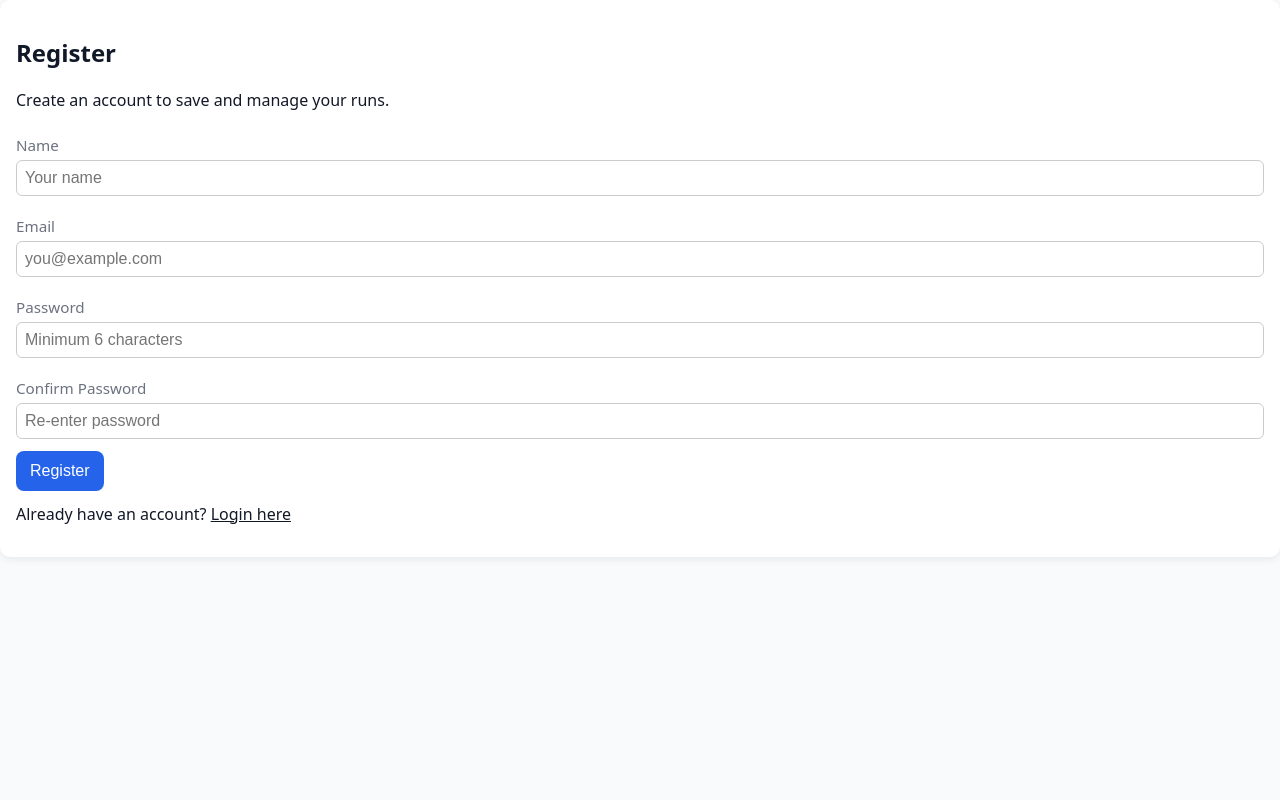
it: RegisterPage › shows error when passwords do not match
Type "Danniel" into the field labelled "Name" at x=640, y=178, box [16,160,1264,196]
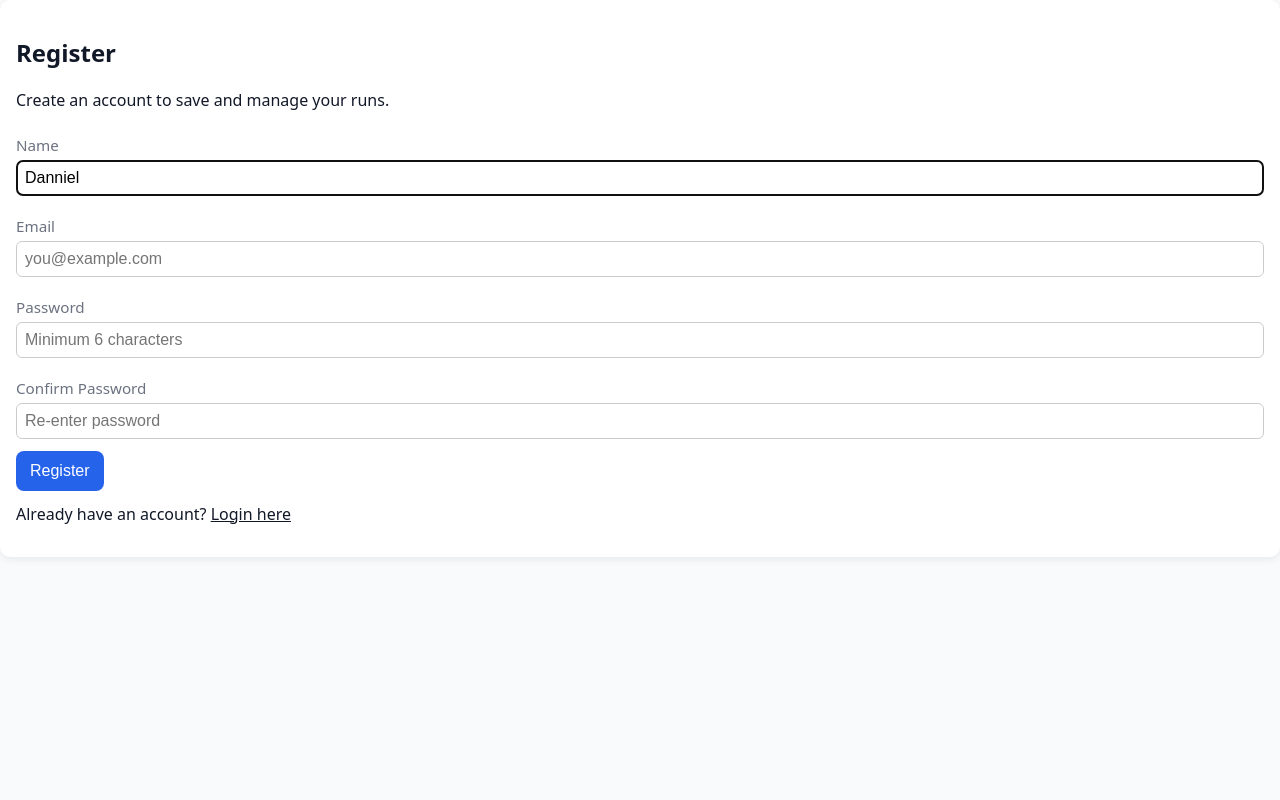
Type "test@example.com" into the field labelled "Email" at x=640, y=259, box [16,241,1264,277]
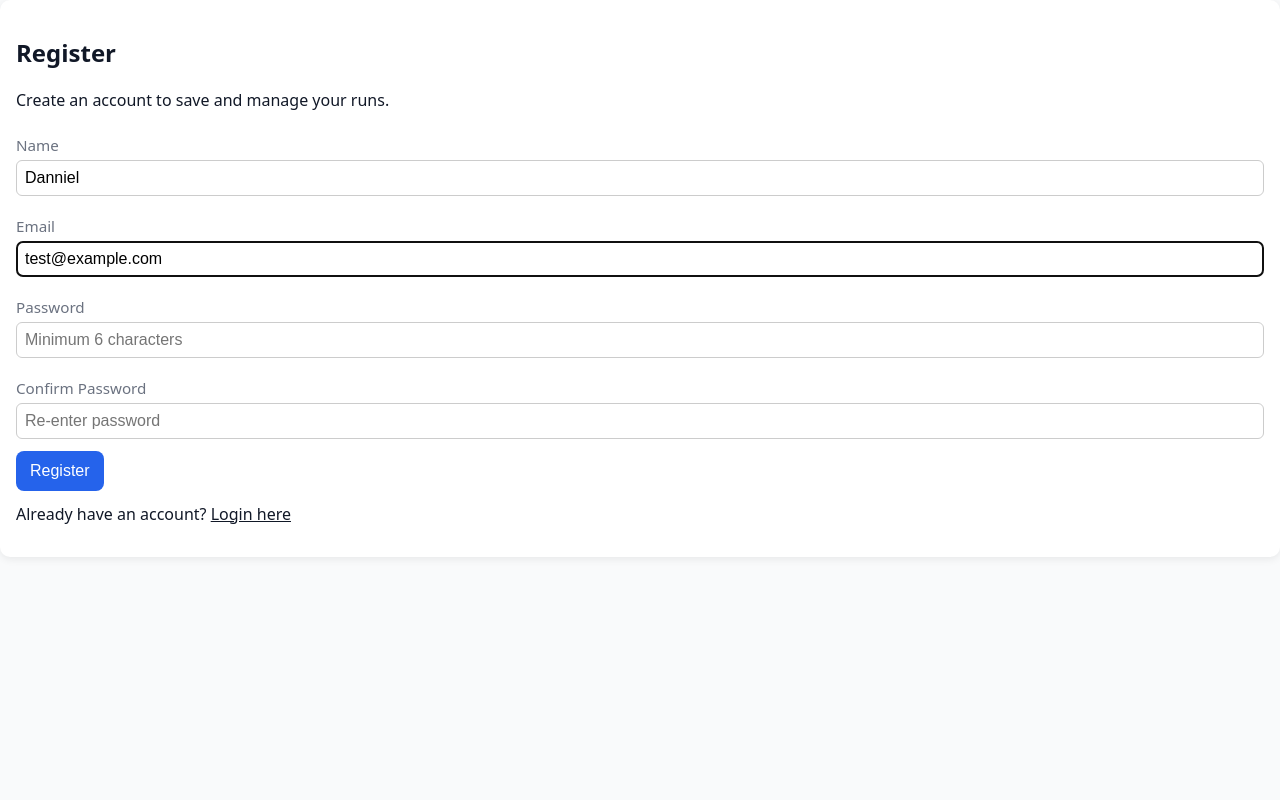
Type "secret123" into the password field labelled "Password" at x=640, y=340, box [16,322,1264,358]
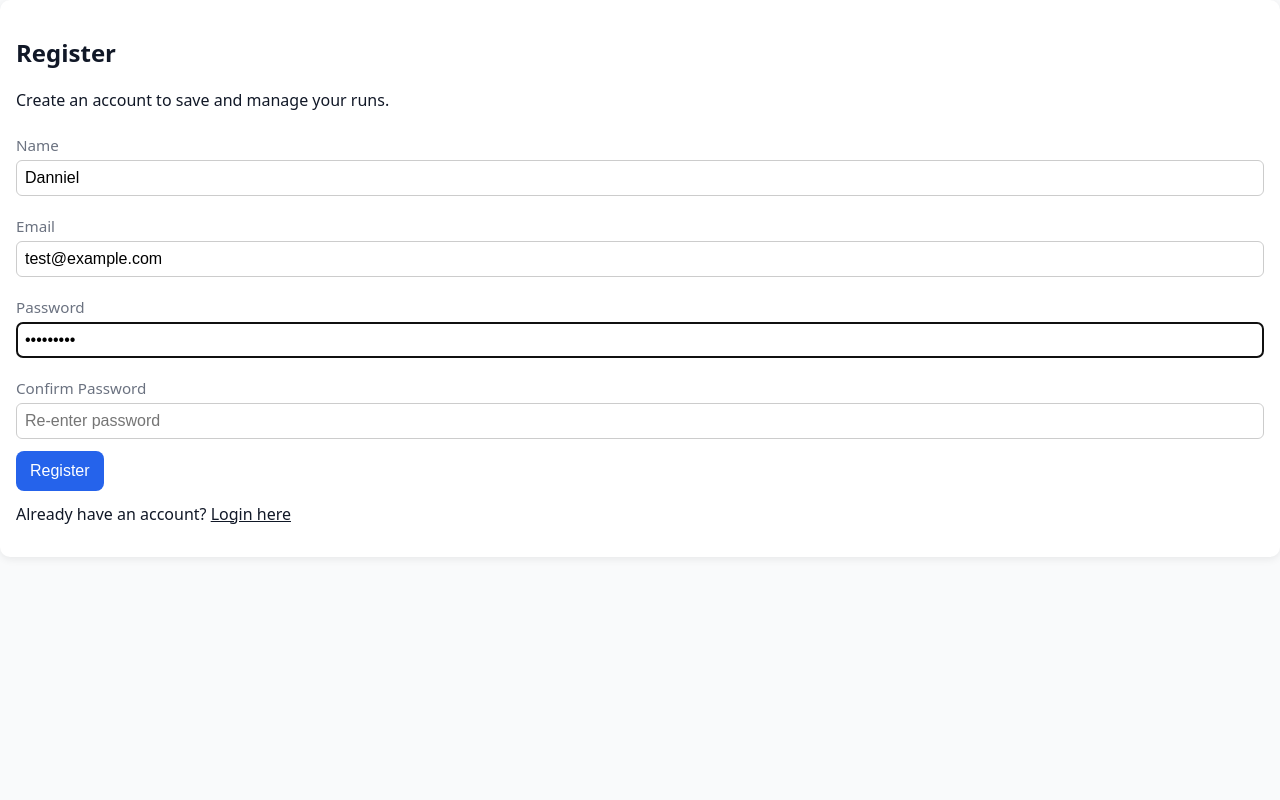
Type "different123" into the password field labelled "Confirm Password" at x=640, y=421, box [16,403,1264,439]
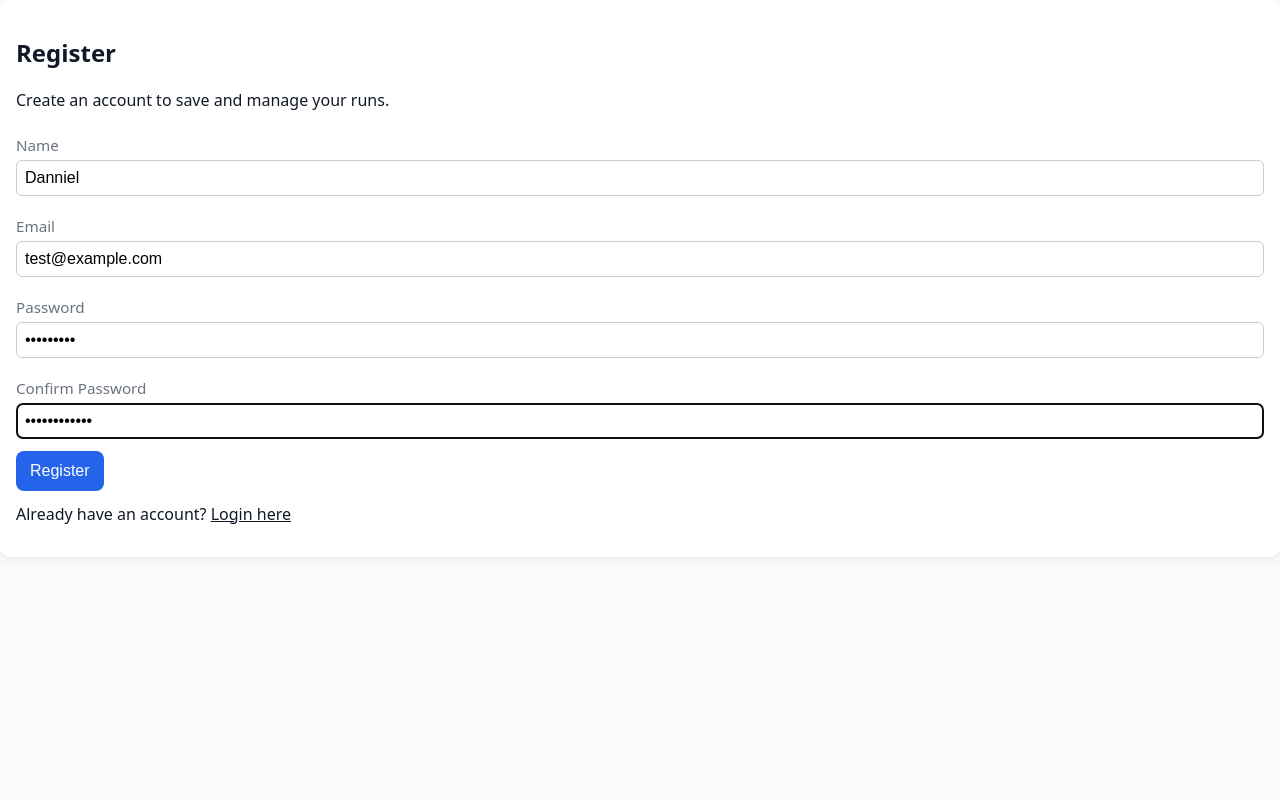
Click the button "Register" at x=60, y=471, box [16,451,104,491]
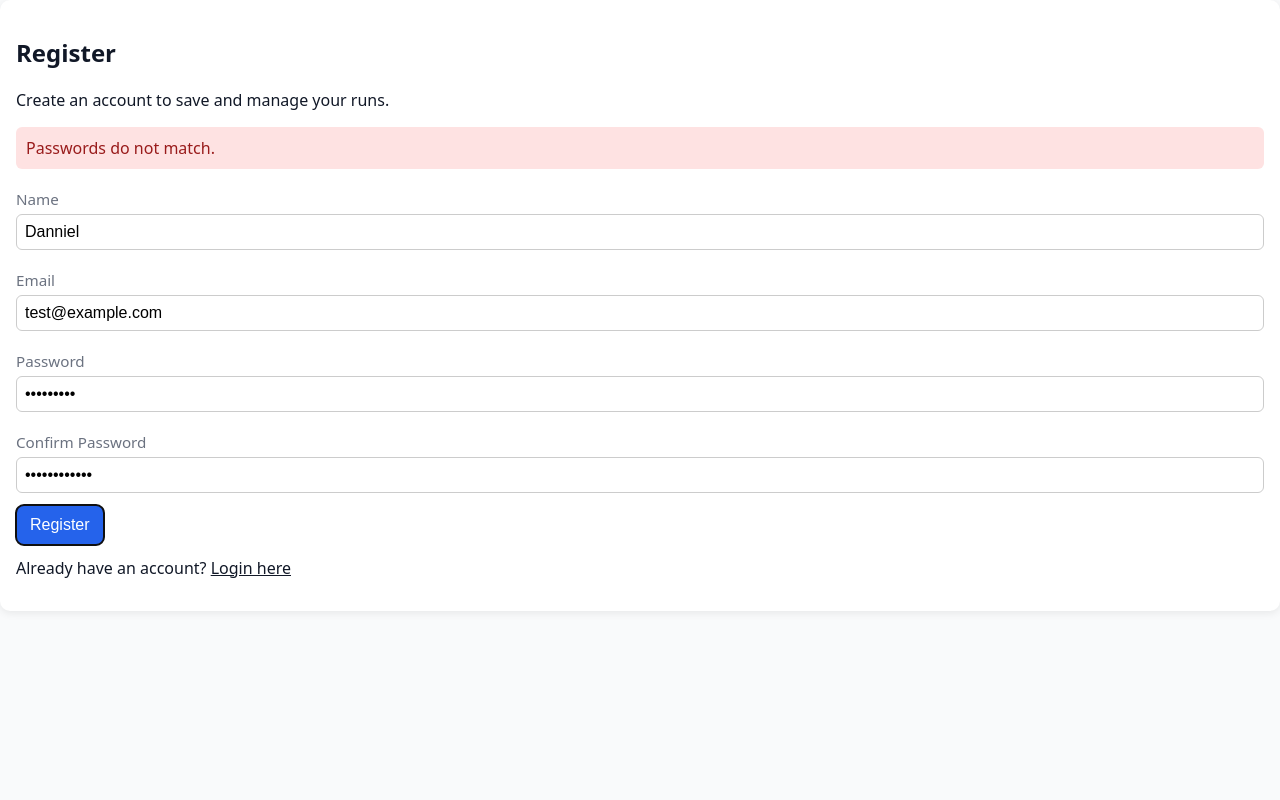
Now the text "Passwords do not match." is shown, box [16,127,1264,169]
